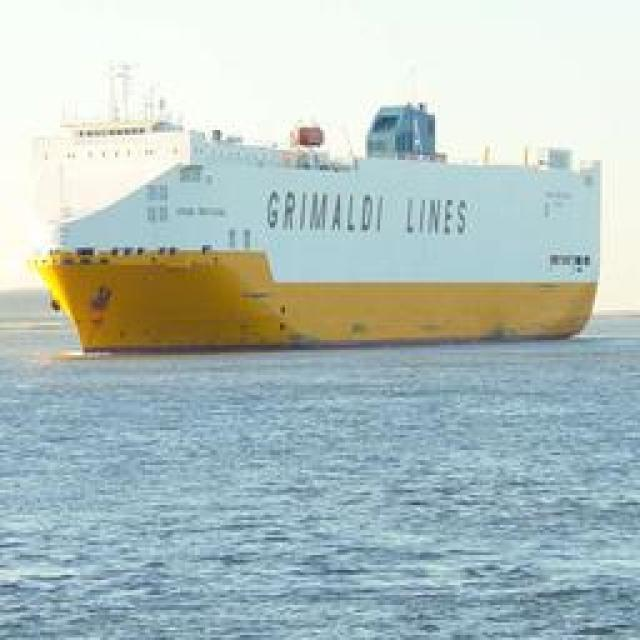Ship: (31, 88, 609, 356)
